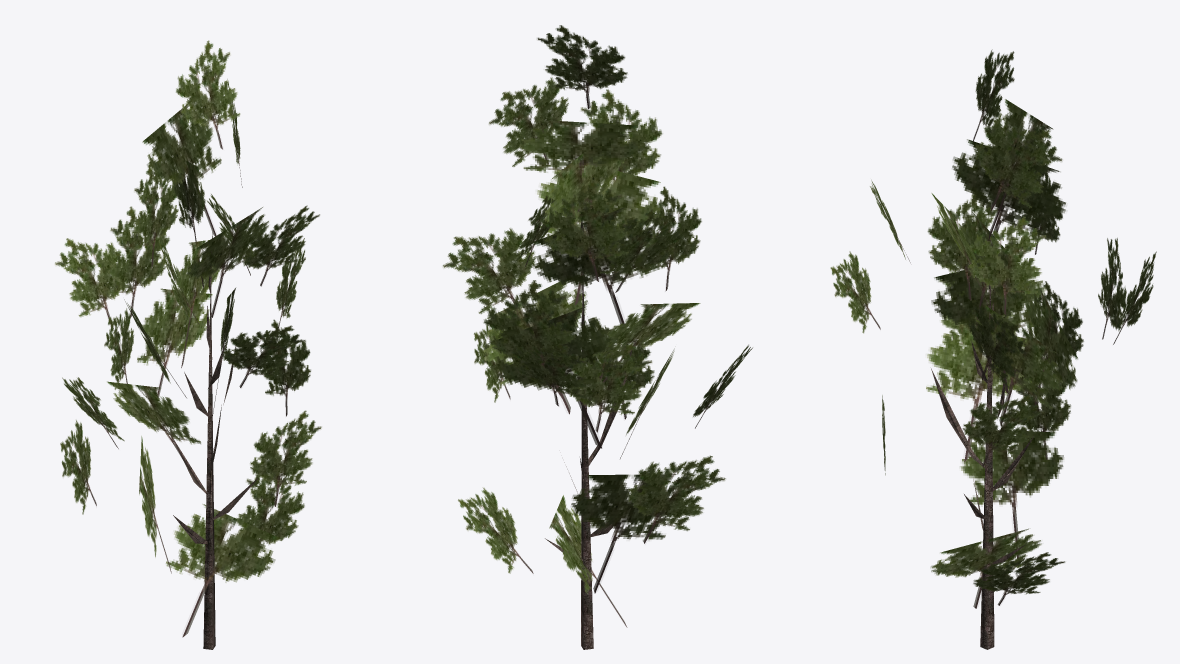
The model's file is bush-tall.lod1.glb.
3 views of the same model, side by side, from view 1: azimuth 30°, elevation 25°; view 2: azimuth 150°, elevation 25°; view 3: azimuth 270°, elevation 25° (orthographic). The views are drawn at different scales.
Parts seen in each view (by area): view 1: Object_17, Object_16; view 2: Object_17, Object_16; view 3: Object_17, Object_16.
Boxes of the visible parts, x1,y1,x2,y2 form: Object_17: (55,40,321,637); Object_16: (173,227,257,649); Object_17: (443,25,752,627); Object_16: (545,209,631,649); Object_17: (830,49,1156,608); Object_16: (931,229,1034,649).
Bounding box in the file's own units: 1.12 × 2 × 1.05.
Materials: 2 (2 with a texture image).
